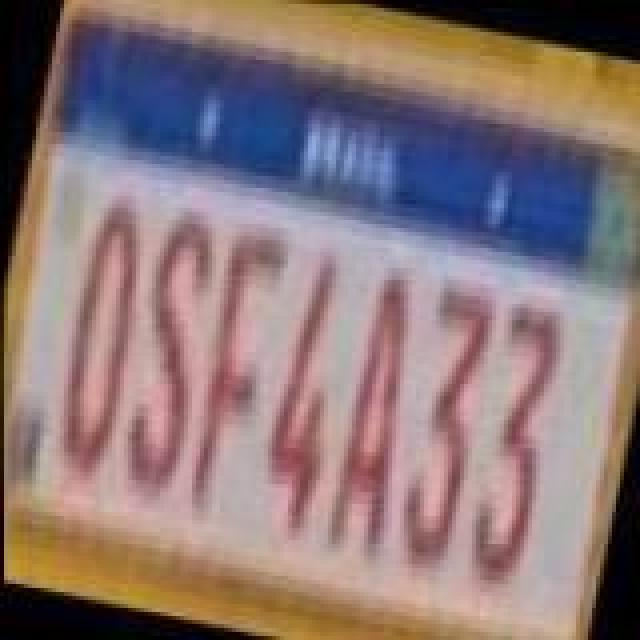3: (380, 268, 504, 572), (448, 290, 572, 586)
4: (242, 242, 366, 542)
A: (316, 258, 432, 562)
F: (168, 216, 296, 528)
O: (42, 192, 154, 480)
S: (102, 206, 226, 502)
